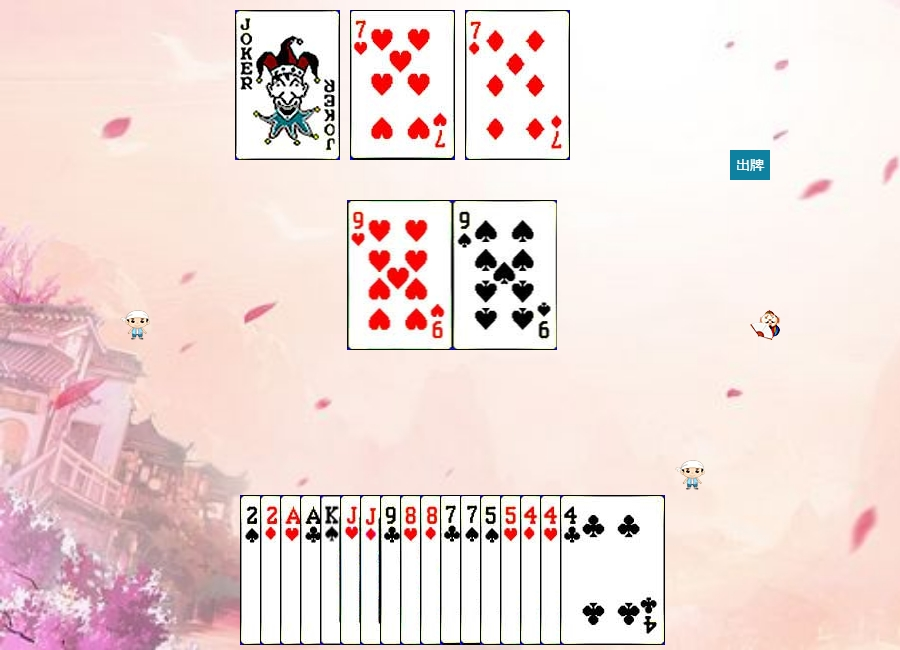11~1: (360, 495, 465, 645)
11~3: (340, 495, 445, 645)
13~4: (320, 495, 425, 645)
14~2: (300, 495, 405, 645)
14~3: (280, 495, 385, 645)
15~1: (260, 495, 365, 645)
15~4: (240, 495, 345, 645)
17~3: (235, 10, 340, 160)
4~1: (520, 495, 625, 645)
4~2: (560, 495, 665, 645)
4~3: (540, 495, 645, 645)
5~3: (500, 495, 605, 645)
5~4: (480, 495, 585, 645)
7~1: (465, 10, 570, 160)
7~2: (440, 495, 545, 645)
7~3: (350, 10, 455, 160)
7~4: (460, 495, 565, 645)
8~1: (420, 495, 525, 645)
8~3: (400, 495, 505, 645)
9~2: (380, 495, 485, 645)
9~3: (348, 200, 453, 350)
9~4: (453, 200, 558, 350)
